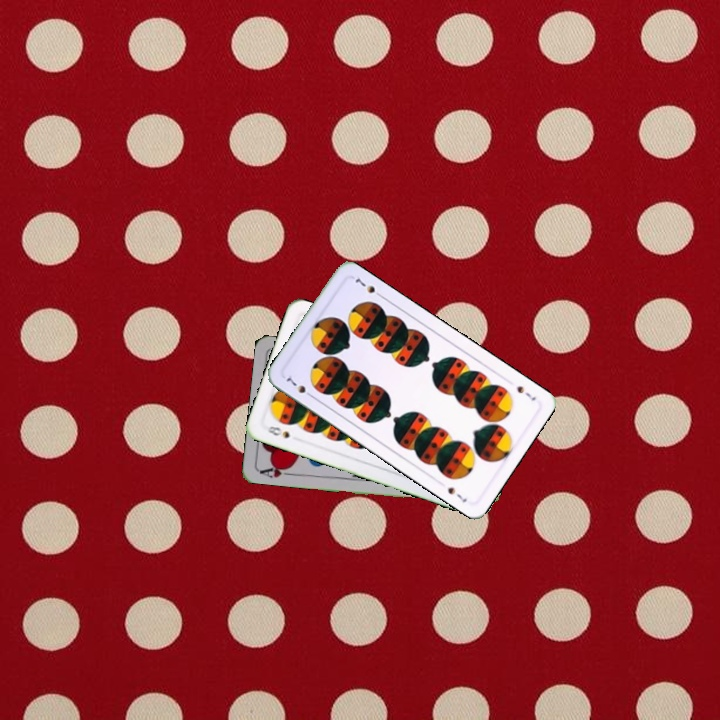HA: (256, 461, 297, 480)
S7: (282, 371, 316, 401), (513, 382, 539, 403)
S8: (263, 422, 292, 441)
